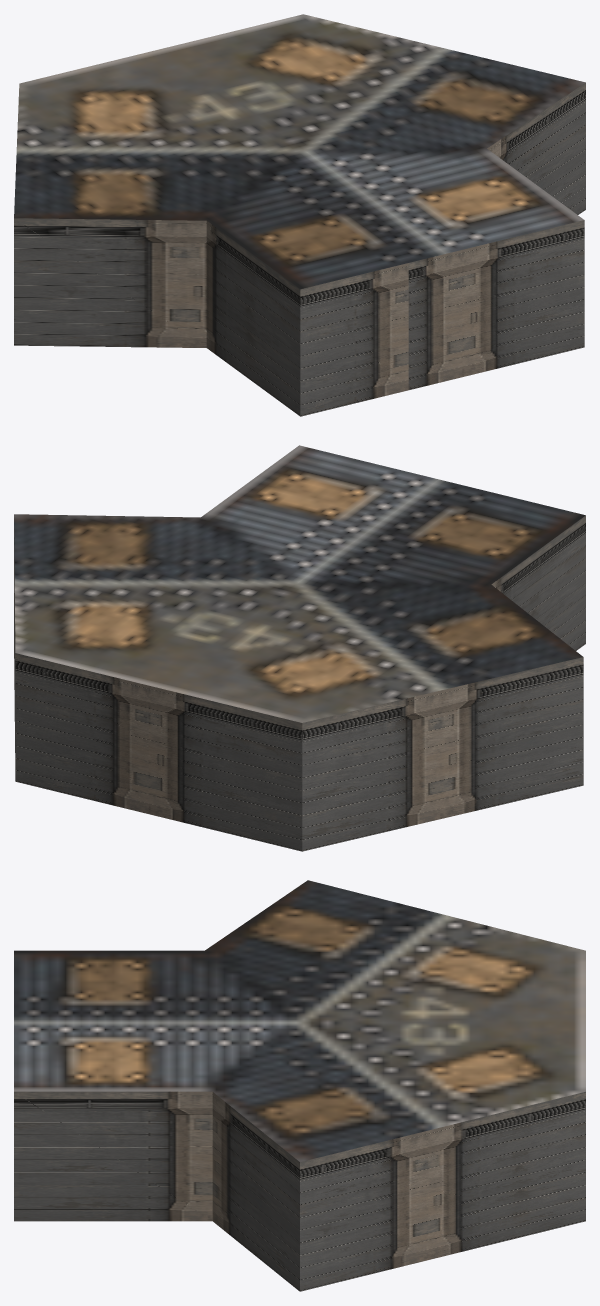
The model's file is hangar_medium_a_43.glb.
3 renders of one model, top to bottom at view 1: azimuth 30°, elevation 25°; view 2: azimuth 150°, elevation 25°; view 3: azimuth 270°, elevation 25°, orthographic.
Parts seen in each view (by area): view 1: buildings/saxarba/hangar_medium/hangar_medium_a_43; view 2: buildings/saxarba/hangar_medium/hangar_medium_a_43; view 3: buildings/saxarba/hangar_medium/hangar_medium_a_43.
Boxes of the visible parts, <box> form: buildings/saxarba/hangar_medium/hangar_medium_a_43: <box>14,14,585,416</box>; buildings/saxarba/hangar_medium/hangar_medium_a_43: <box>14,445,585,851</box>; buildings/saxarba/hangar_medium/hangar_medium_a_43: <box>14,880,585,1291</box>.
Size of the model in its own units: 84 by 18 by 72.
